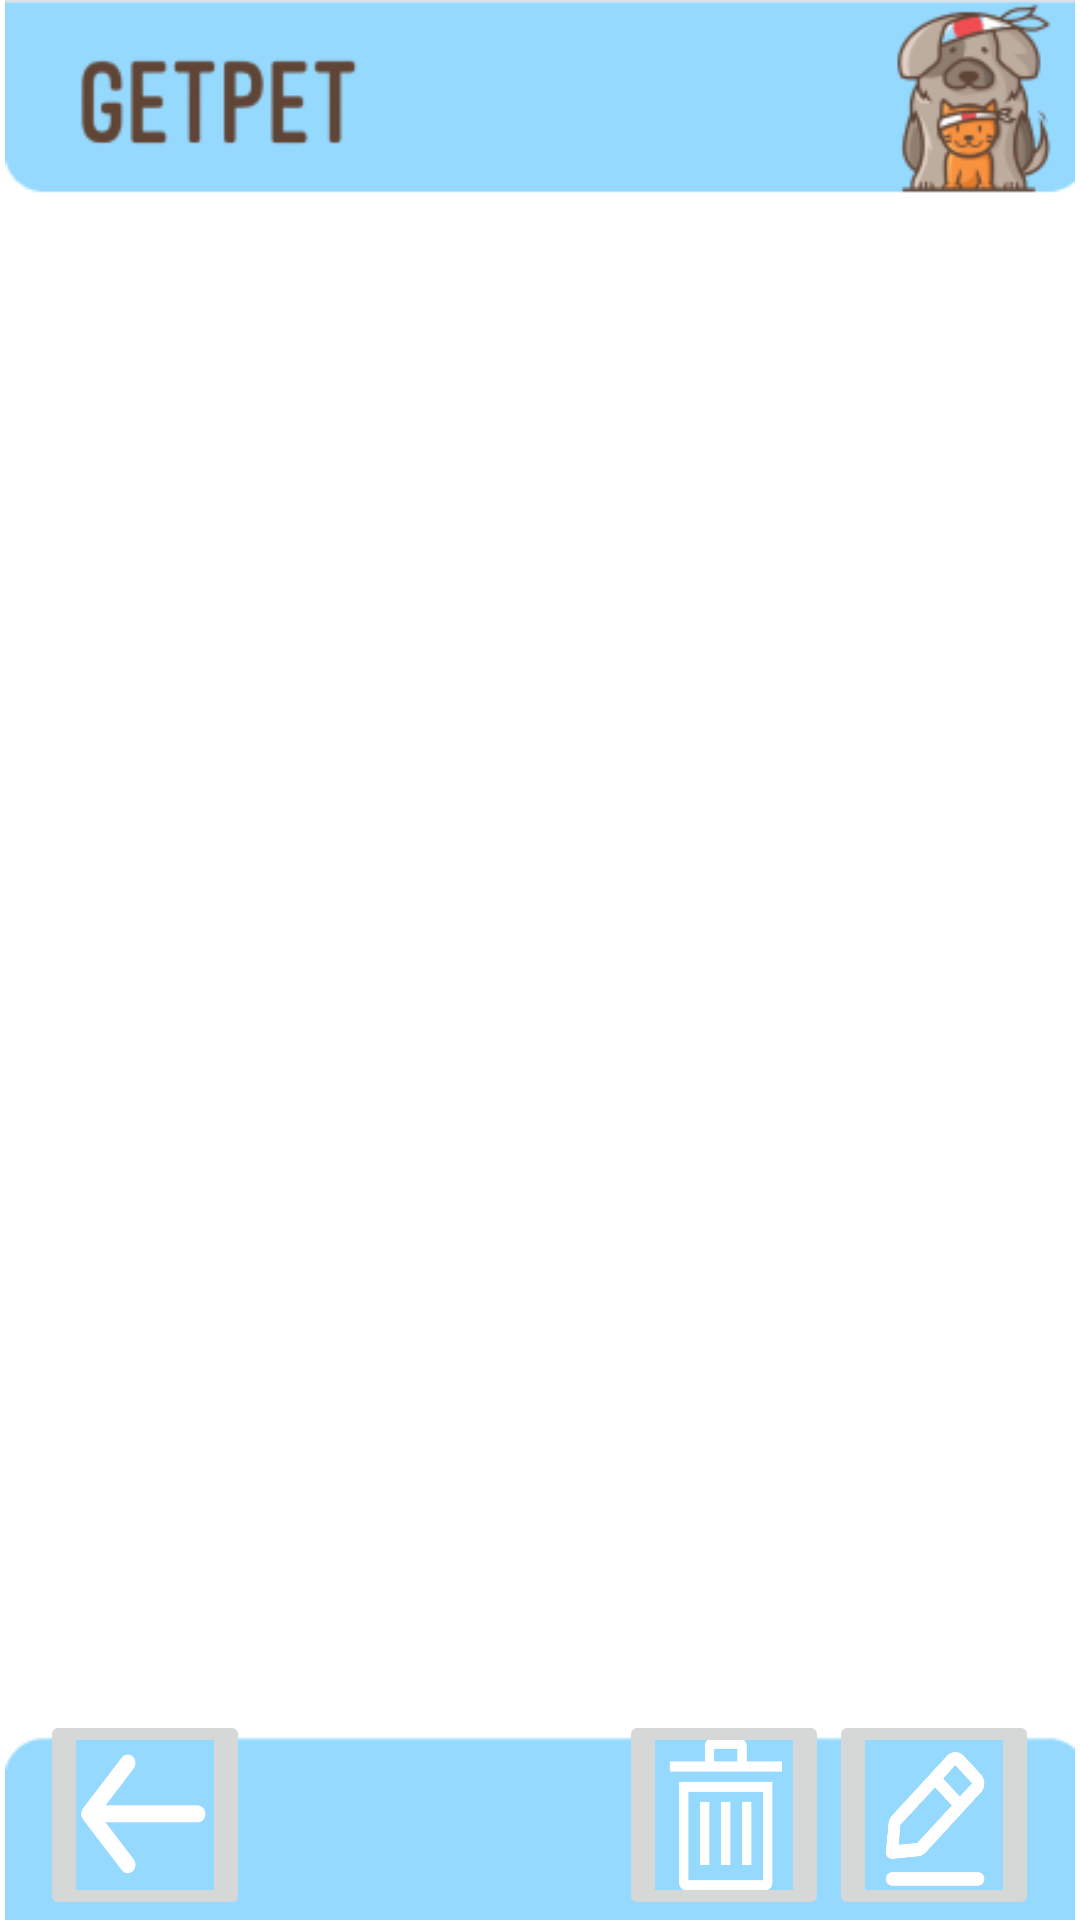

Screen size 1080×1920. Icon name, then its center in pixels as point (x, y):
back: point (145, 1815)
edit: point (934, 1815)
trush: point (724, 1815)
